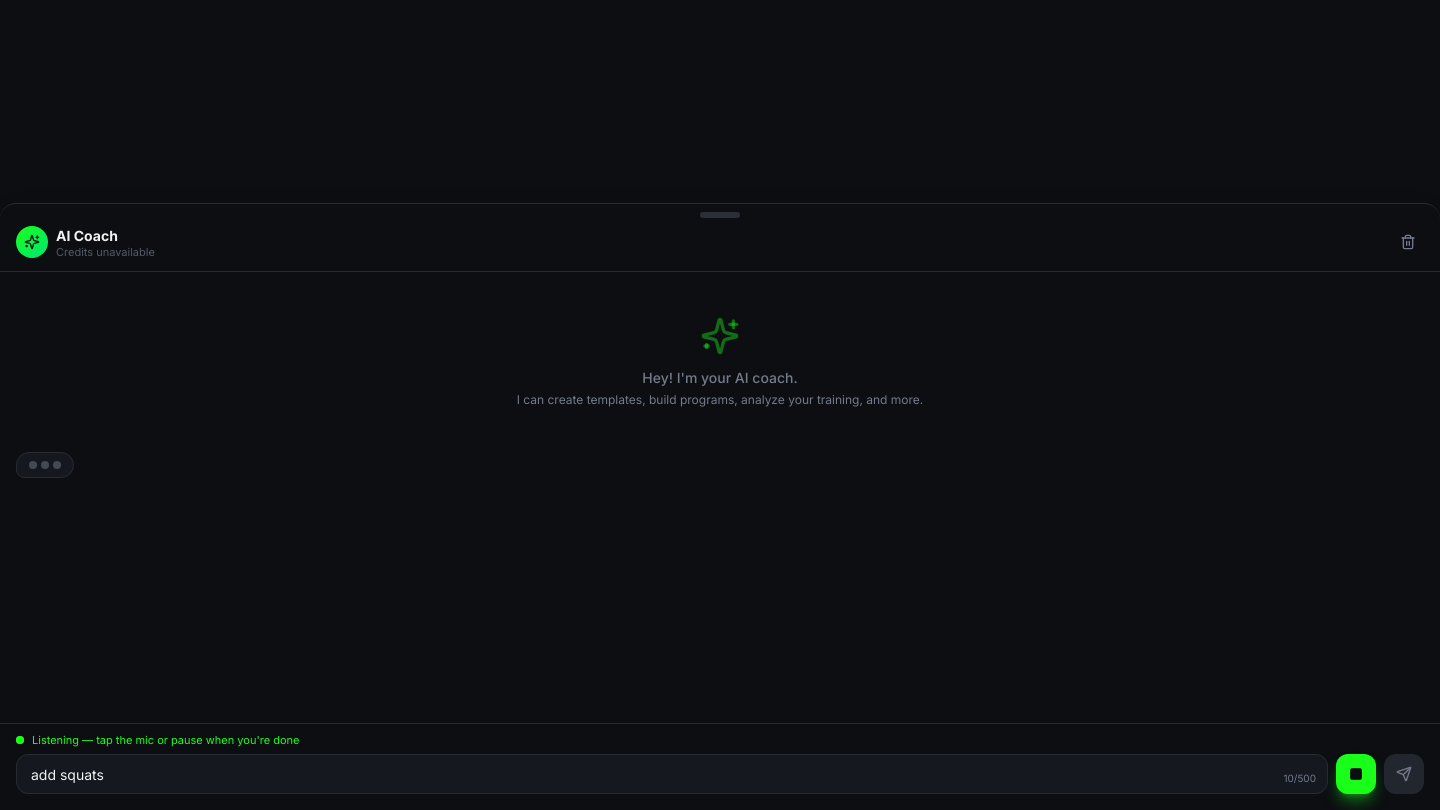
Test: AI coach voice input › can switch the microphone off while a reply is streaming
Earlier steps of the test are not shown.
Click the button named "Stop voice input": (1356, 774) [1336, 754, 1376, 794]
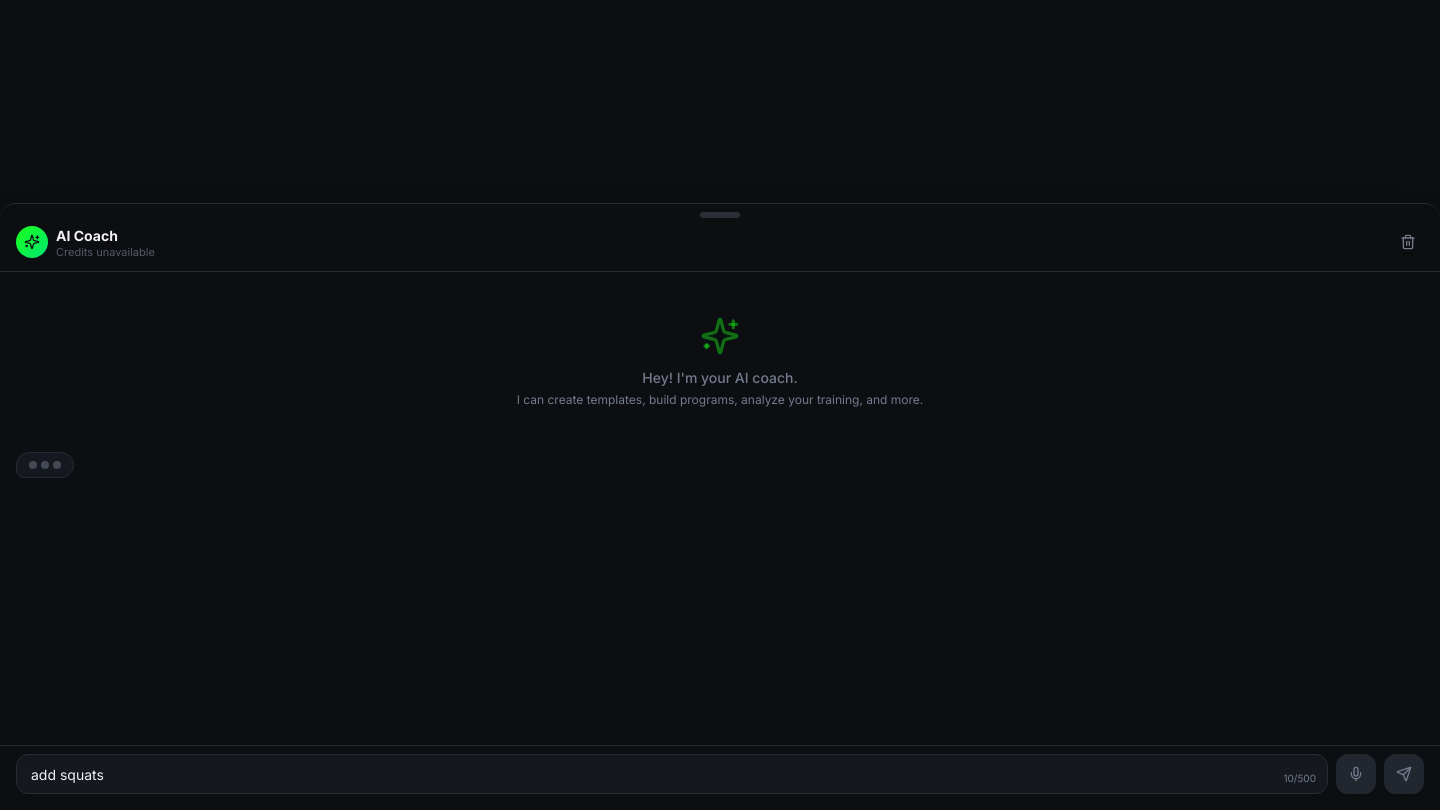
Result: the button named "Start voice input" is shown at [1336, 754, 1376, 794]
